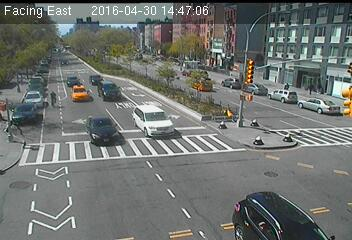neg: (220, 100, 238, 124), (230, 90, 247, 113), (138, 64, 152, 82), (166, 81, 178, 98), (194, 86, 205, 102), (191, 58, 201, 73), (203, 57, 211, 68), (37, 75, 43, 83)
pos: (45, 88, 59, 107), (282, 79, 294, 95), (305, 81, 316, 96), (315, 80, 326, 94)
